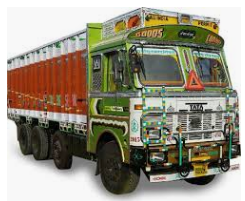truck: (1, 4, 243, 200)
